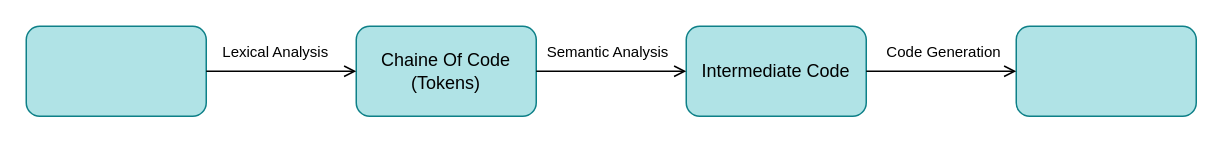
The diagram is 1223 pixels wide and 143 high, and some of its shapes have lost their labels. Each missing label, with the centre of its shape:
Object Code: the point at 1105,70
Source Code: the point at 115,70
